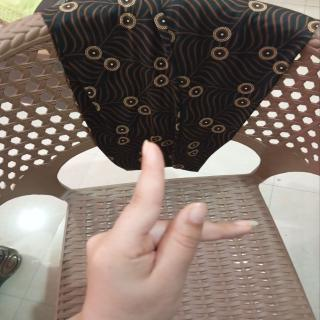DHAA: (72, 135, 267, 320)
